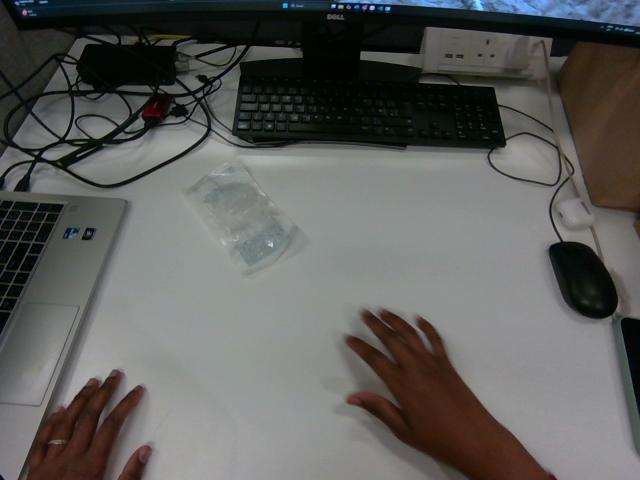gallipot: (185, 162, 294, 273)
